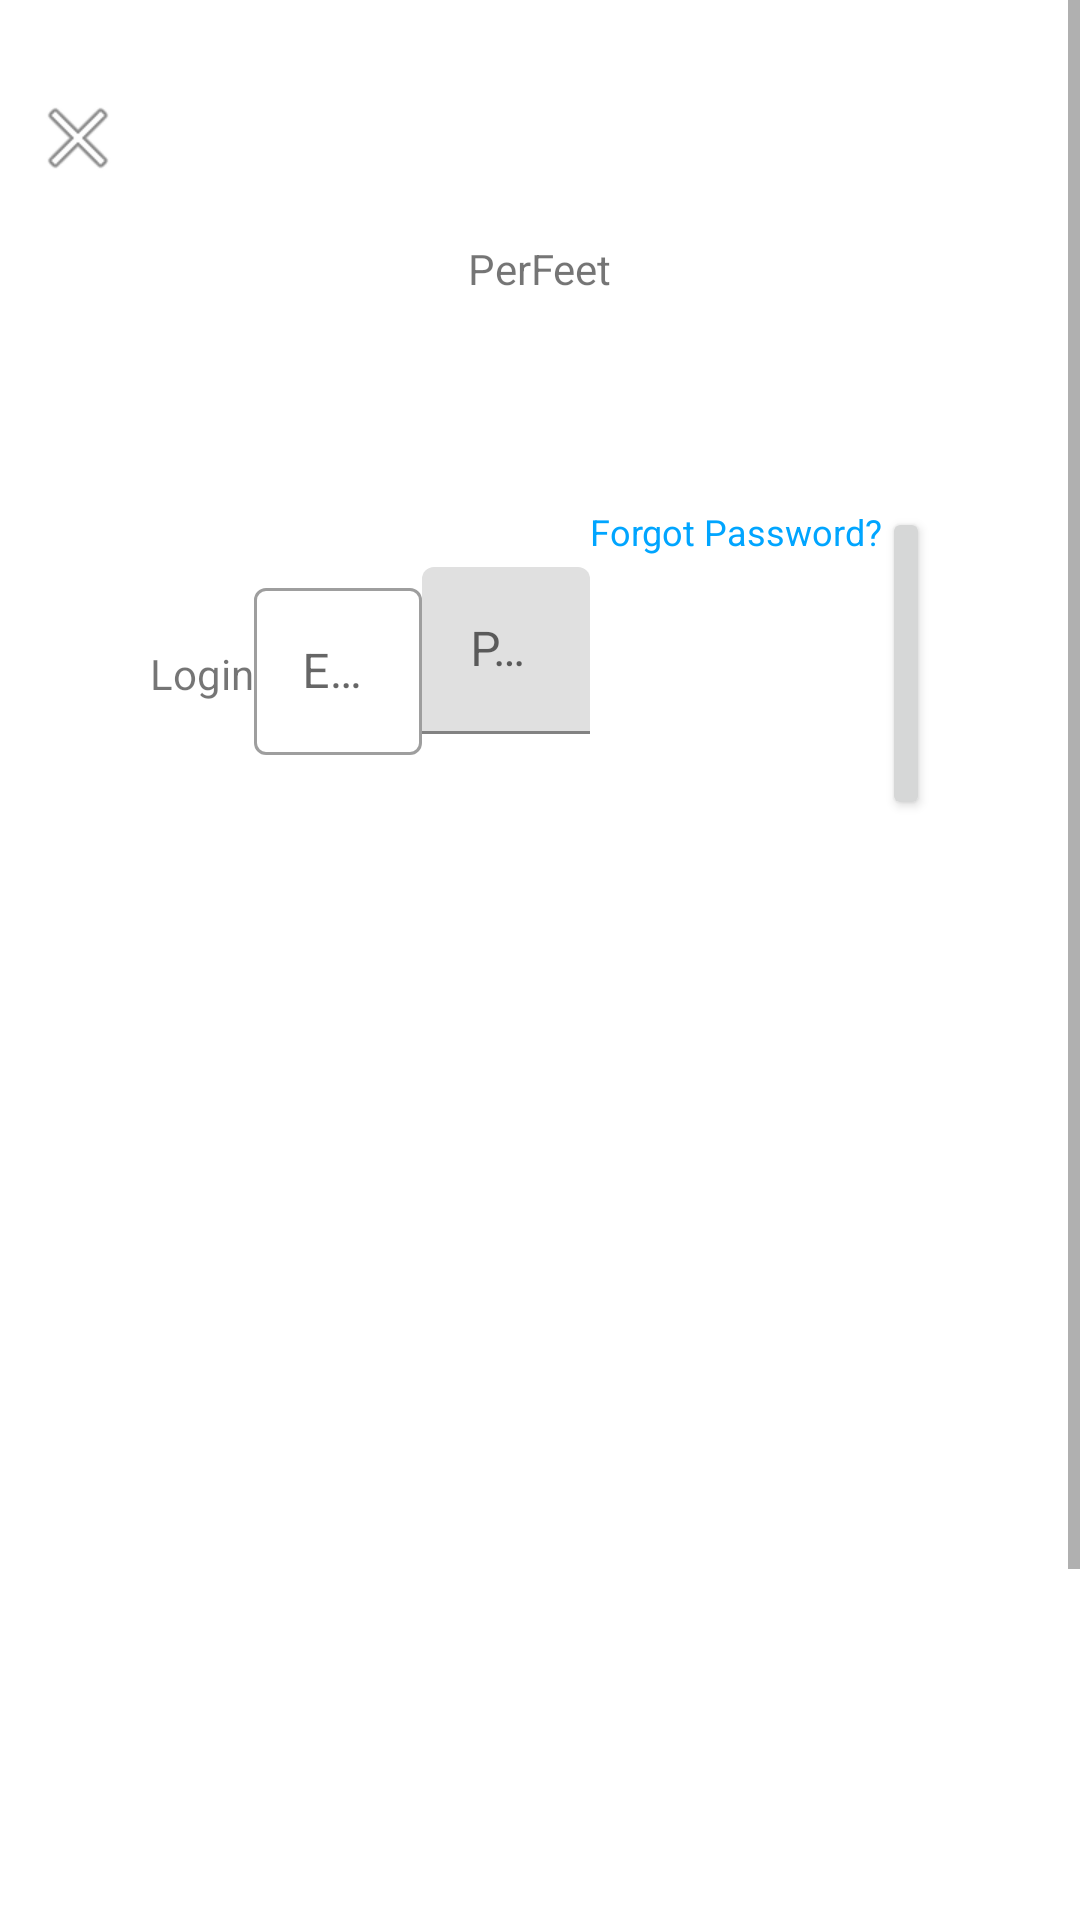

Icon bounding boxes for this 1080×1920 phone screenshot, format (x1, y1, x2, y2):
close clear cancel: (48, 108, 108, 168)
